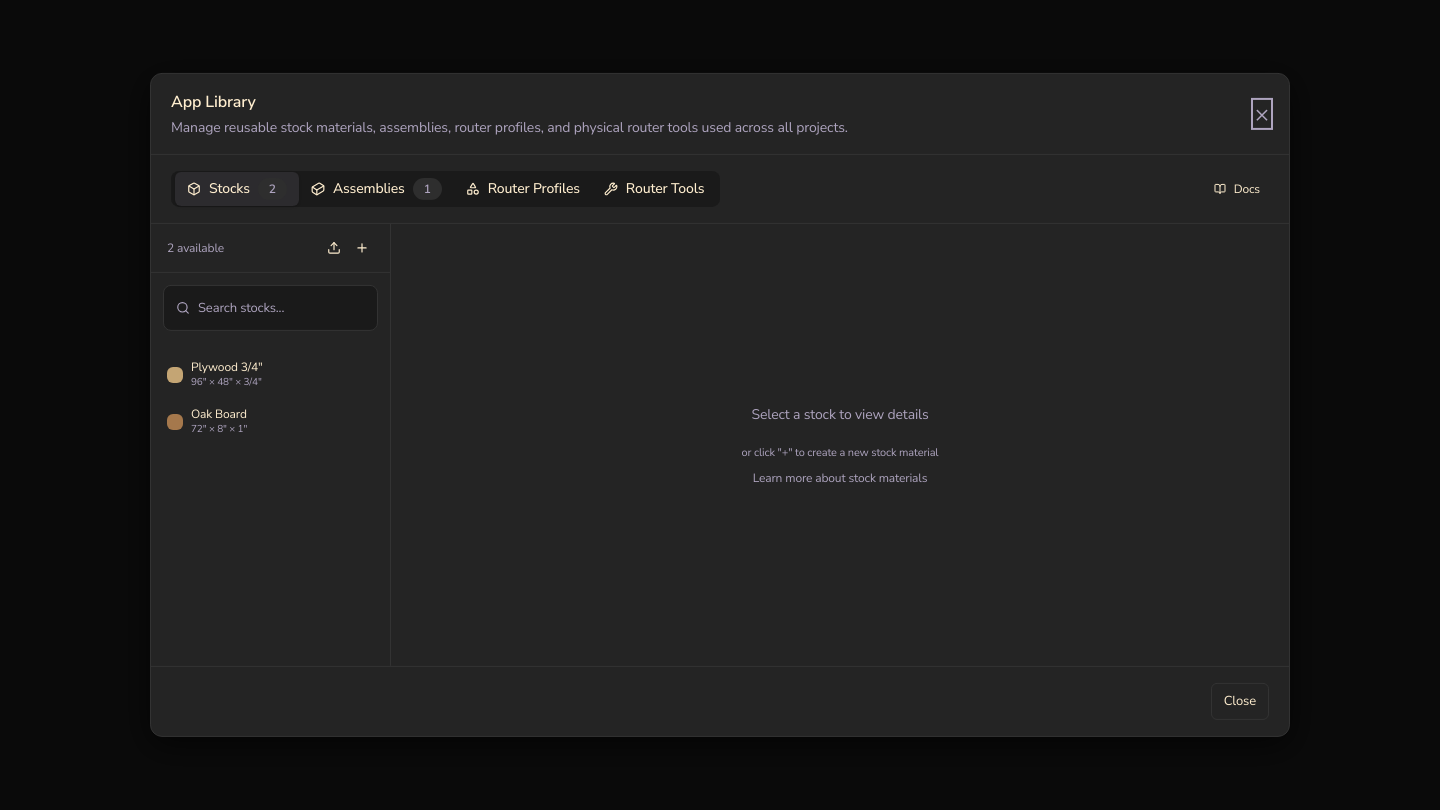
Scenario: StockLibraryModal › stock selection › shows stock details when selected
Step 1. Click the text "Plywood 3/4\"" → click(227, 367), box 191,359 -> 263,375
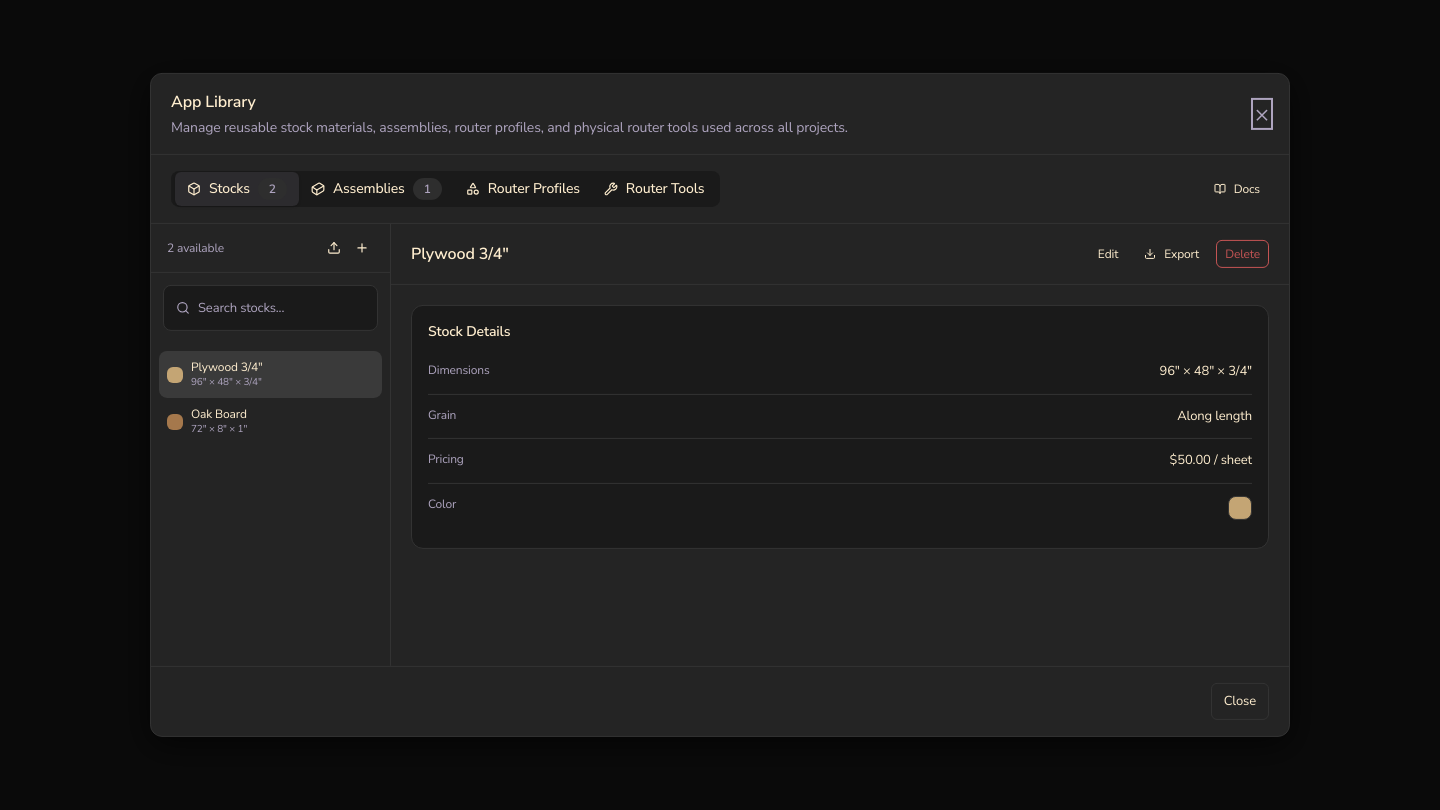
Check: the text "Dimensions" is shown, box 428,362 -> 490,378
Check: the text "Grain" is shown, box 428,406 -> 456,422
Check: the text "Pricing" is shown, box 428,451 -> 464,467
